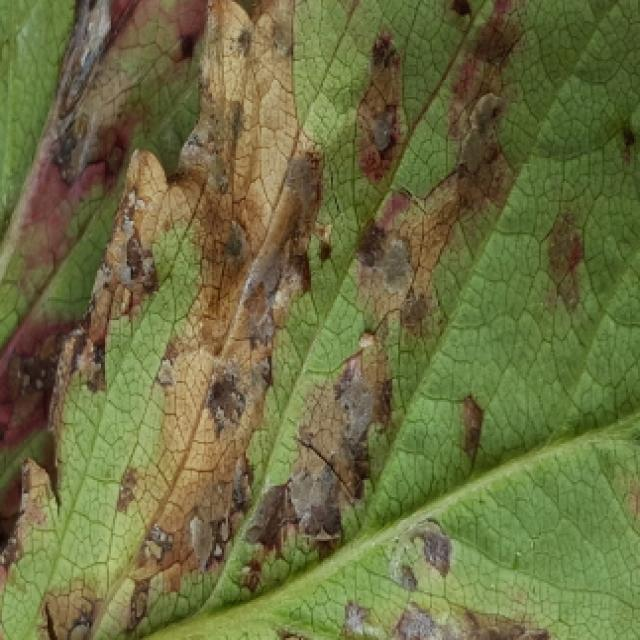Angular Leafspot: (0, 0, 640, 640)
